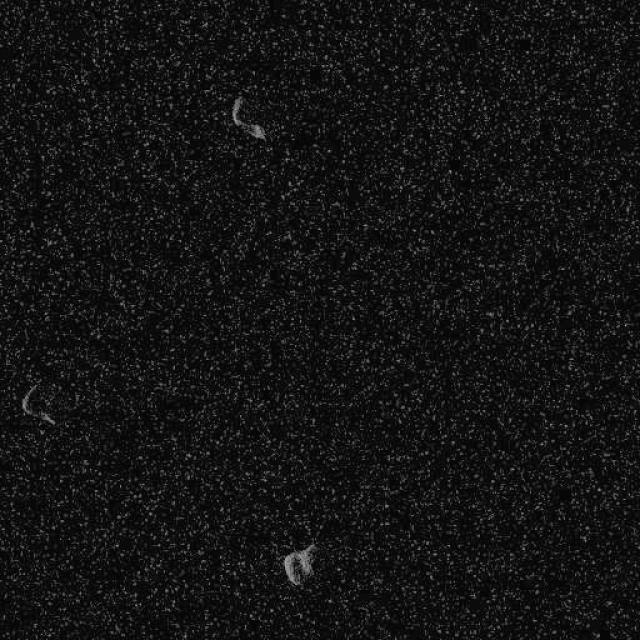D2: (230, 95, 268, 141), (282, 542, 318, 586), (20, 382, 55, 427)
